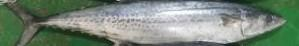fish: (7, 0, 288, 45)
